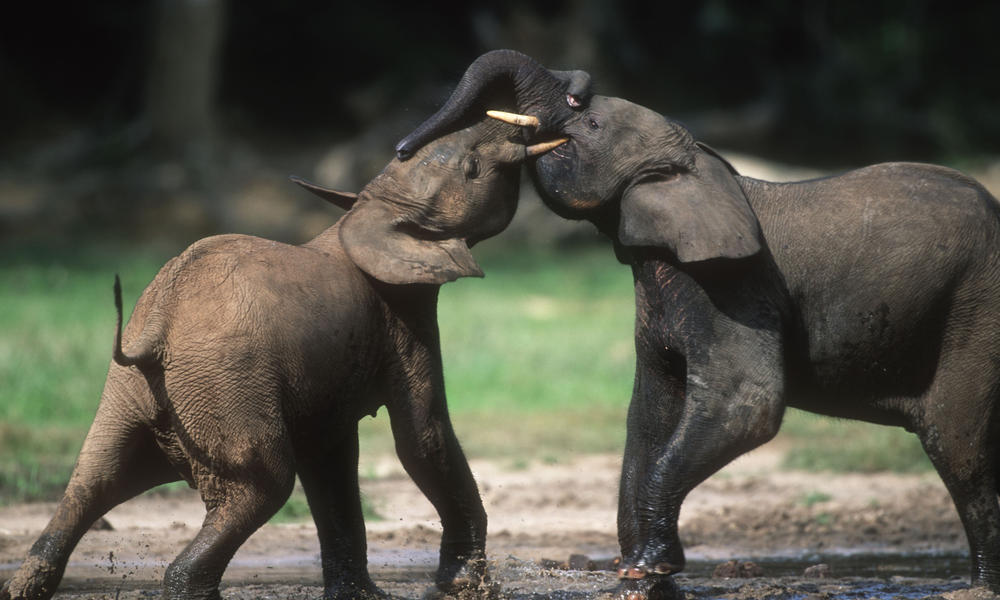Indian Elephant: (431, 32, 1000, 574), (23, 97, 558, 600)
